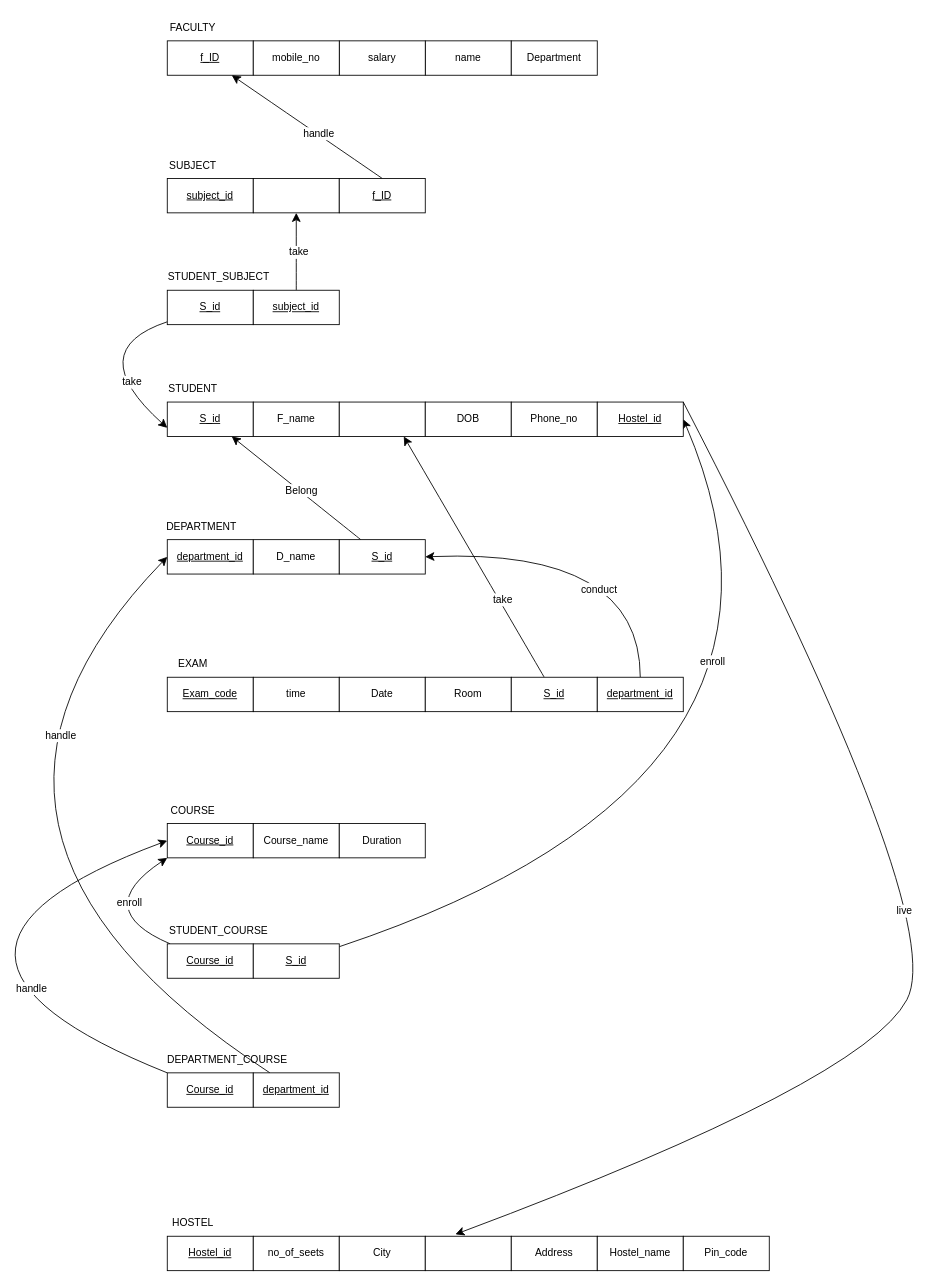
Some shapes in this 928 by 1286 pixel diagram are drawn without their labels. Each missing label, with the box of its shape:
L_name: (338, 401, 425, 436)
State: (424, 1235, 511, 1271)
subject_name: (252, 178, 339, 213)
